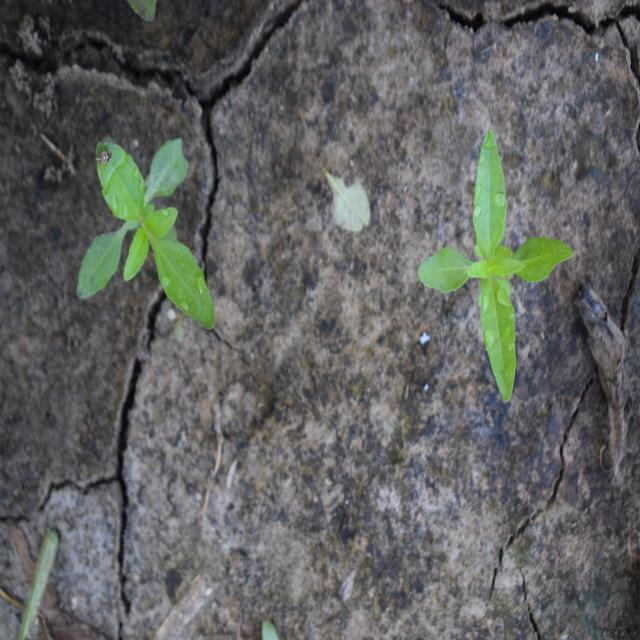Eclipta: (416, 126, 575, 402), (76, 136, 216, 330)
